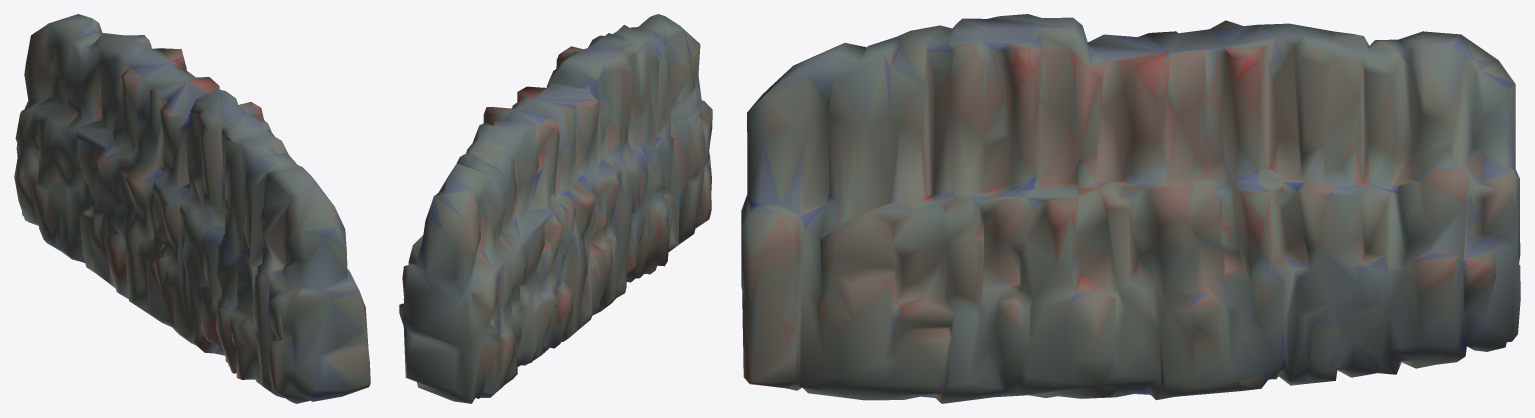
File: rock_shaft_01.fbx
3 renders of one model, left to right at view 1: azimuth 30°, elevation 25°; view 2: azimuth 150°, elevation 25°; view 3: azimuth 270°, elevation 25°, orthographic. The views are drawn at different scales.
Visible parts, largest first — view 1: Rock_Shaft_Tall_Export; view 2: Rock_Shaft_Tall_Export; view 3: Rock_Shaft_Tall_Export.
Boxes of the visible parts, <box> form: Rock_Shaft_Tall_Export: <box>14,14,370,403</box>; Rock_Shaft_Tall_Export: <box>399,14,712,403</box>; Rock_Shaft_Tall_Export: <box>741,14,1520,403</box>.
Size of the model in its own units: 384 by 751 by 1503.
